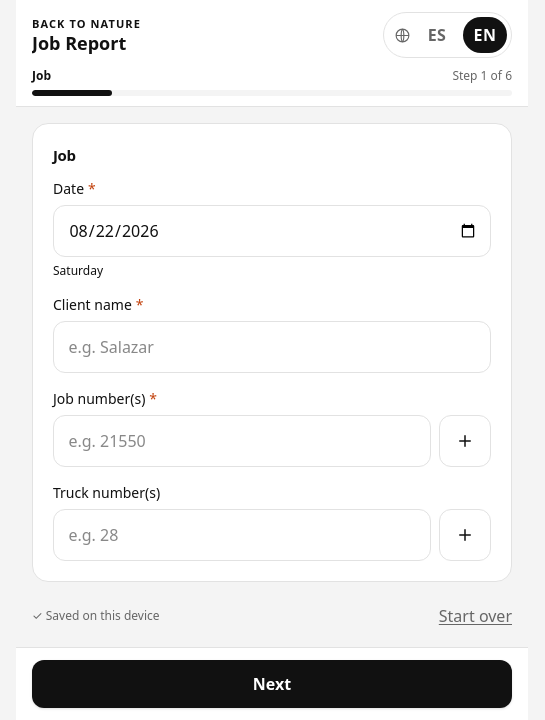
Test: moving past the times step › carries the day's hours through to the crew step
Click the button "Next": coordinates (272, 684) [32,660,512,708]
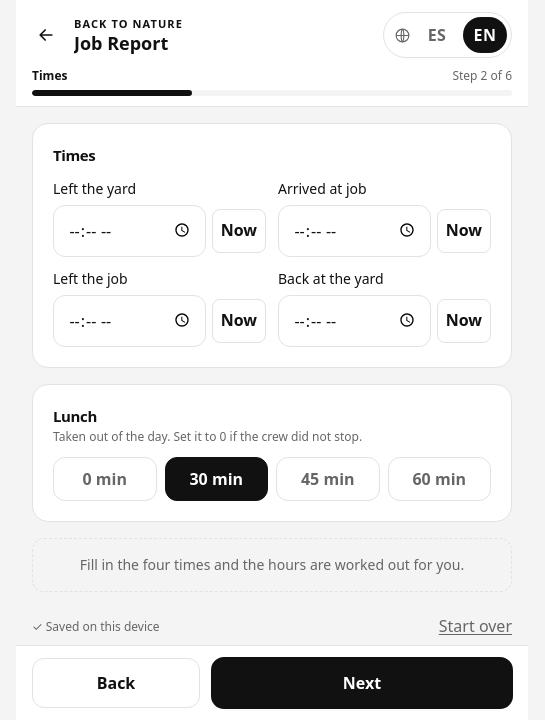
Now the time field labelled "Left the yard" is shown
In the time field labelled "Left the yard": coordinates (129, 230) [53,204,206,256], type "07:00"
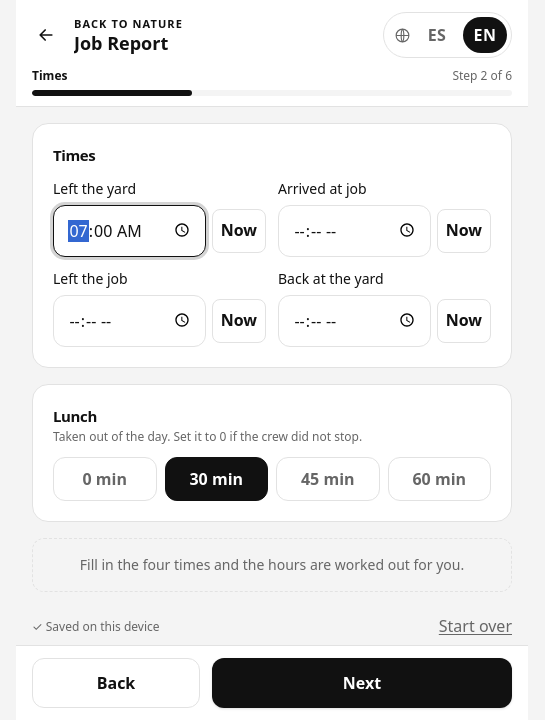
In the time field labelled "Back at the yard": coordinates (354, 320) [278,294,431,346], type "16:30"
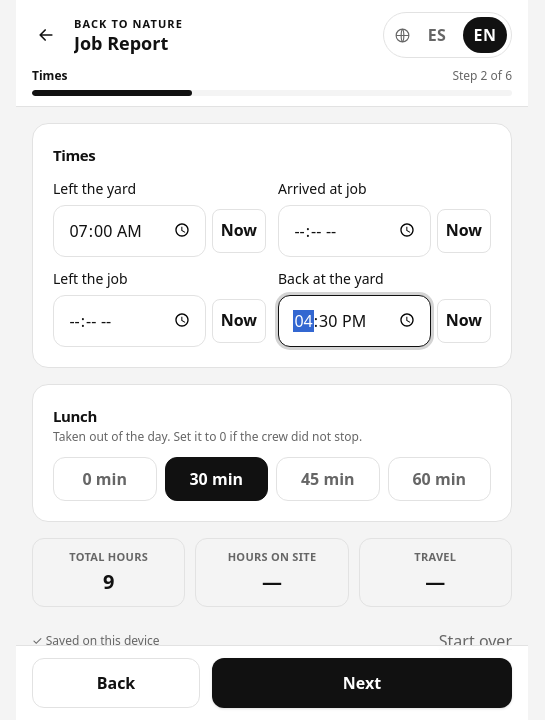
Click the button "Next": coordinates (362, 683) [212,658,512,708]
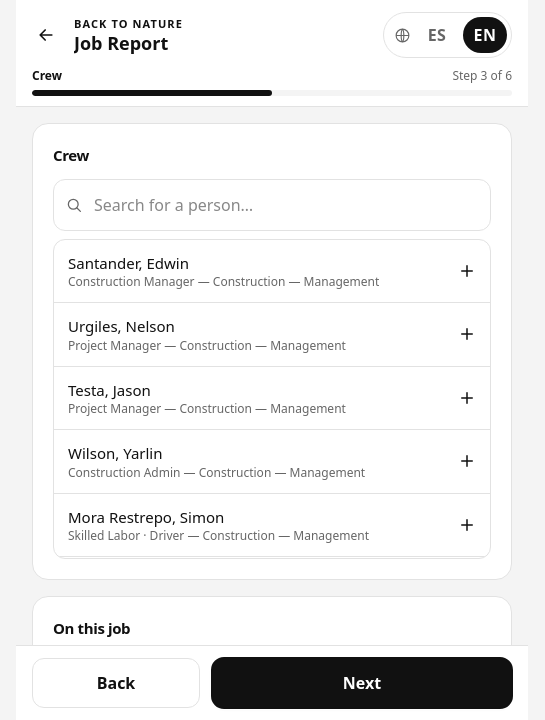
In the search field with placeholder "Search for a person…": coordinates (272, 204) [53,178,491,230], type "Santander, Edwin"
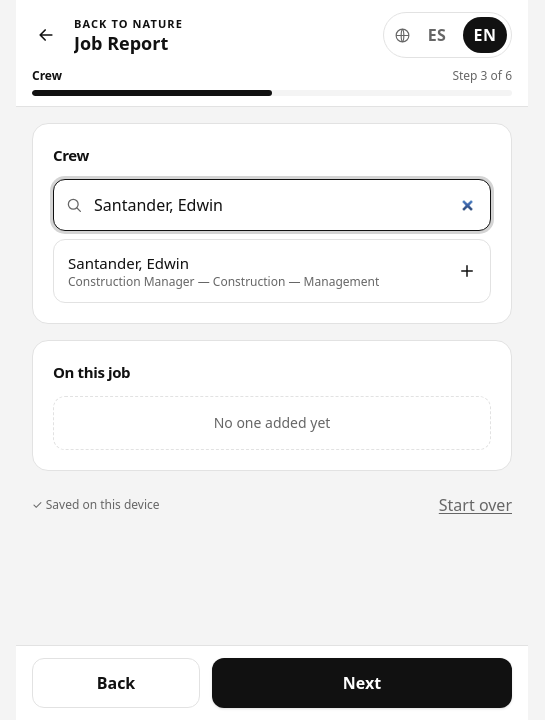
Click the text "Santander, Edwin": coordinates (128, 262) [68,252,189,272]
(page scrolled)
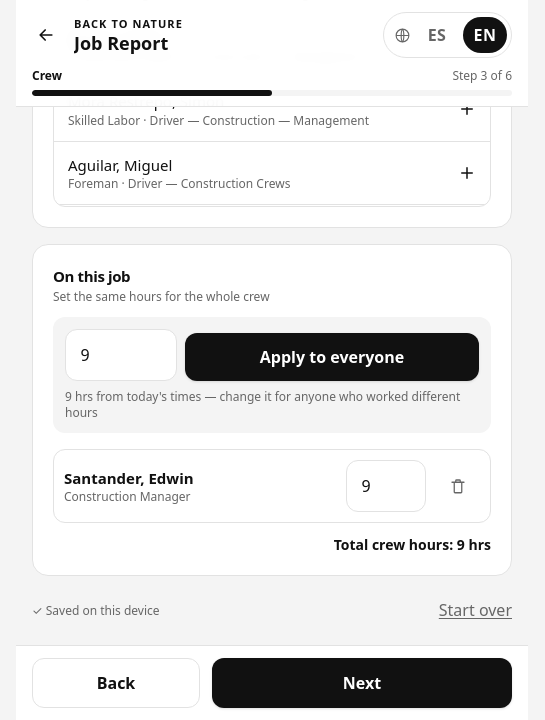
Now the text "9 hrs from today's times — change it for anyone who worked different hours" is shown, box [65,389,479,421]
